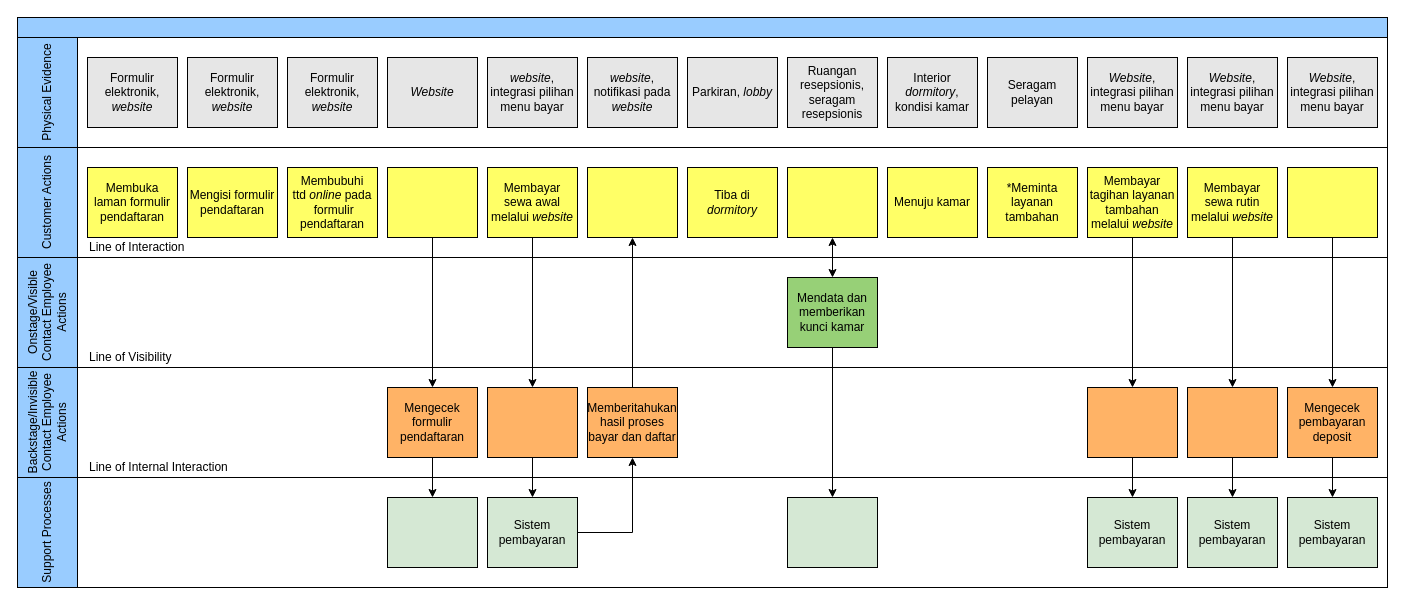
Image size: 1405x605. Some labels were removed from this diagram. The box of each missing label's shape, as (x1, y1, x2, y2) in pixels:
Blueprint PB3 - Kontrak dan Keuangan: (16, 16, 1388, 38)
Melakukan check in: (786, 166, 878, 238)
Membayar deposit melalui website: (1286, 166, 1378, 238)
Menerima pemberitahuan sukses mendaftar: (586, 166, 678, 238)
Meng- upload formulir pendaftaran: (386, 166, 478, 238)
Mengecek pembayaran layanan tambahan: (1086, 386, 1178, 458)
Mengecek pembayaran sewa: (486, 386, 578, 458)
Mengecek pembayaran sewa rutin: (1186, 386, 1278, 458)
Menyiapkan kamar: (786, 496, 878, 568)
Sistem pendaftaran: (386, 496, 478, 568)
